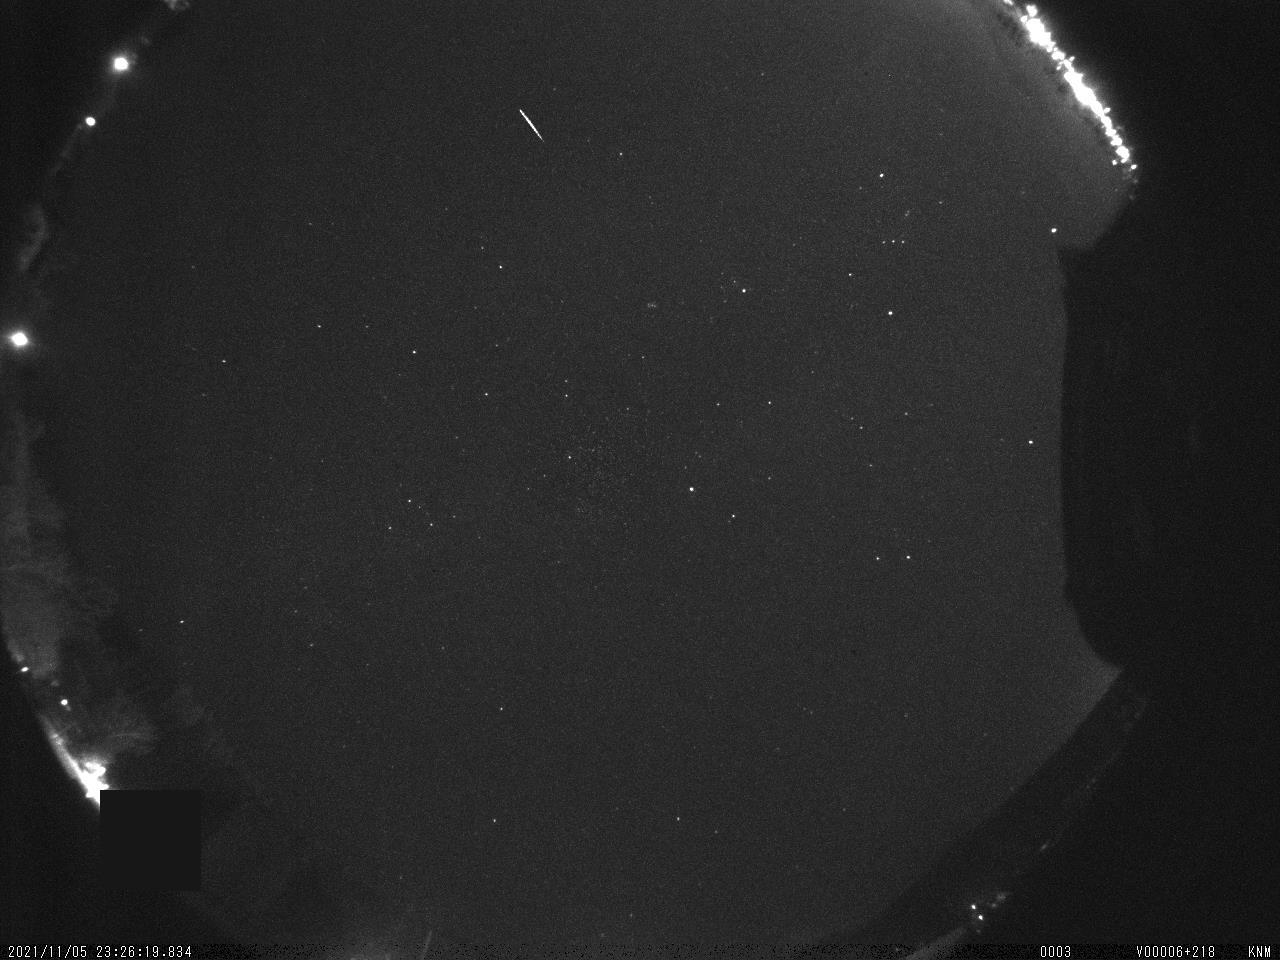meteor: (512, 100, 556, 152)
